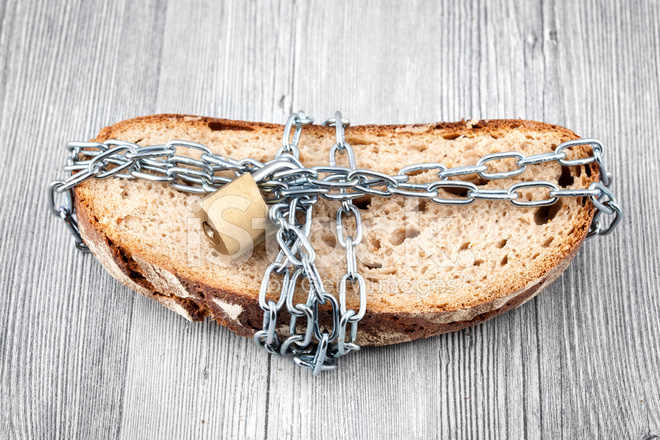slice of bread: (61, 107, 627, 363)
